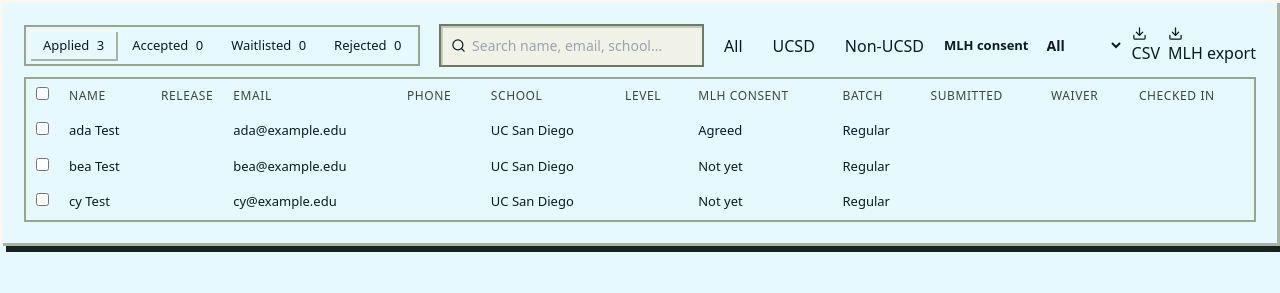
Test case: the hackers table › says so when nobody in the list agreed
The width and height of the screenshot is (1280, 293).
What coordinates should you click on to do the following:
click the button "MLH export"
I would click on:
 (1212, 46)
Its box is [1168,26,1256,65].
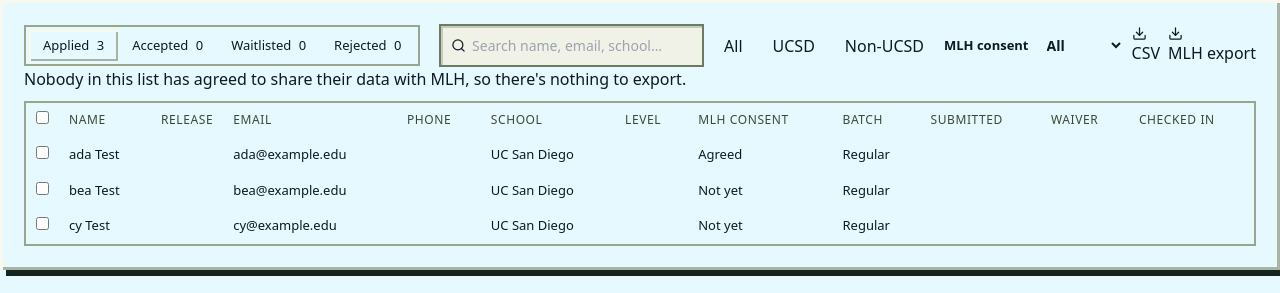
Now the text "Nobody in this list has agreed to share their data with MLH" is shown, box [24,68,686,90]
